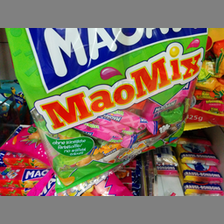candy: (4, 28, 209, 189)
